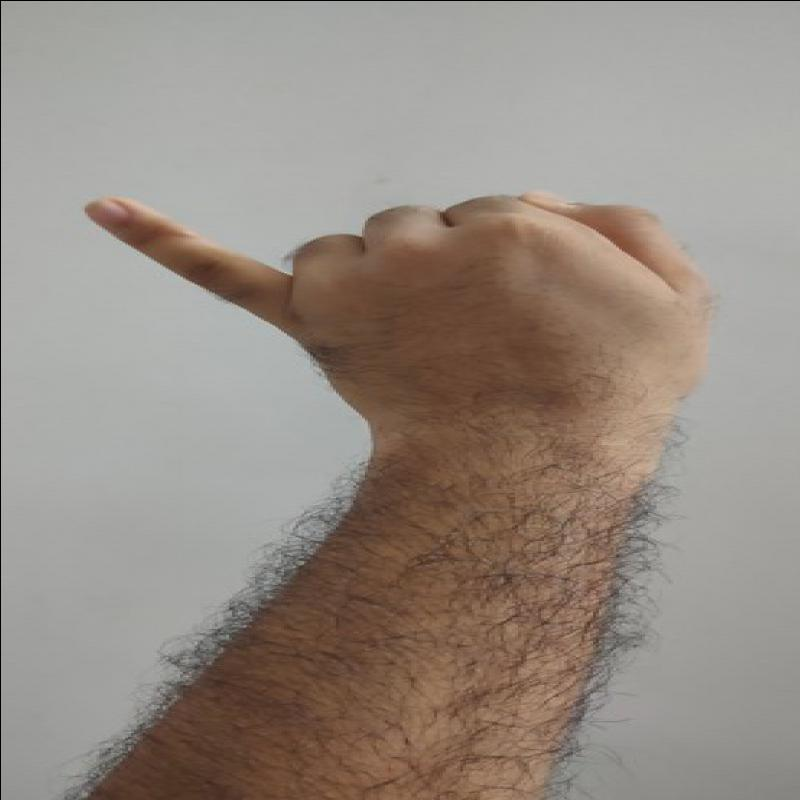Kartharee Mukham: (79, 162, 721, 454)
